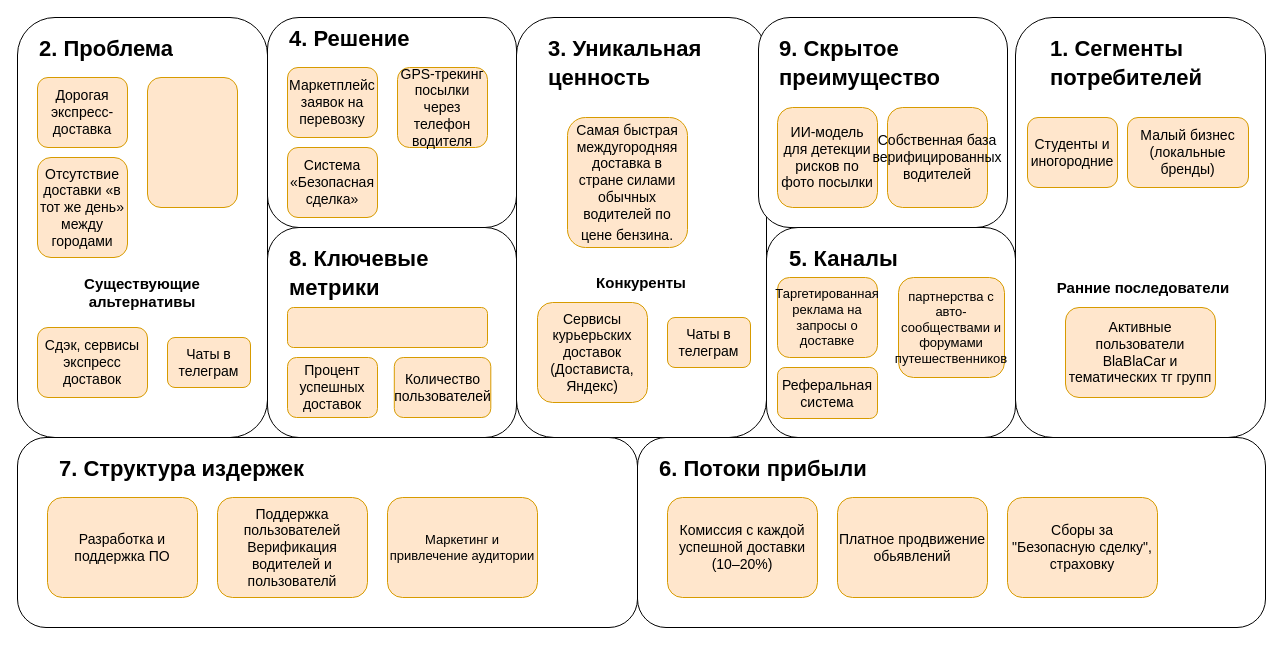
Image size: 1283x645. Some labels were removed from this diagram. The centre of each missing label's shape, as x and y in pixels:
Недоверие при передаче вещей через случайных водителей автобусов: the point at 192,142
Среднее время от создания заявки до забора посылки: the point at 387,327
